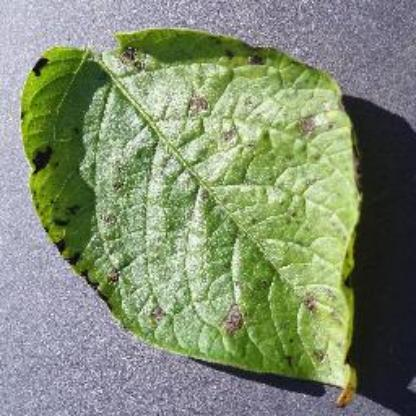Early-Blight: (19, 20, 366, 402)
